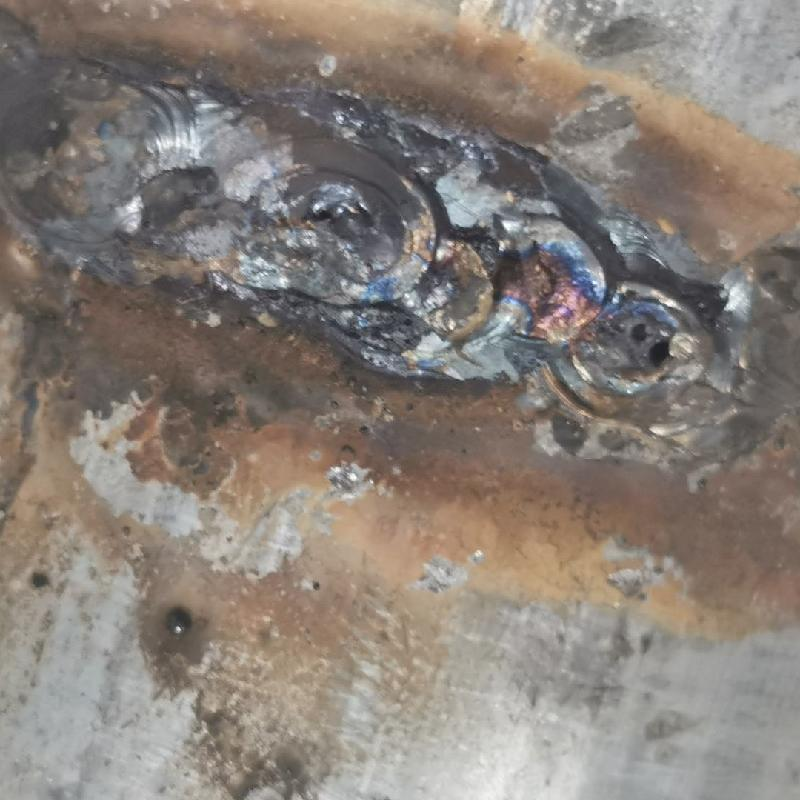Surface_pores: (616, 309, 685, 377)
crater: (259, 145, 709, 410)
wrong_size: (13, 50, 207, 260)
